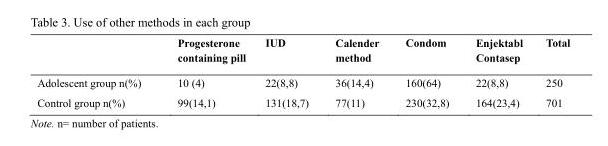table: (36, 35, 569, 108)
table column: (36, 35, 158, 108), (158, 35, 254, 108), (461, 35, 533, 108), (321, 35, 391, 108), (391, 35, 461, 108), (254, 35, 321, 108), (533, 35, 569, 108)
table column header: (36, 35, 569, 69)
table row: (36, 35, 569, 69), (36, 69, 569, 92), (36, 92, 569, 108)
